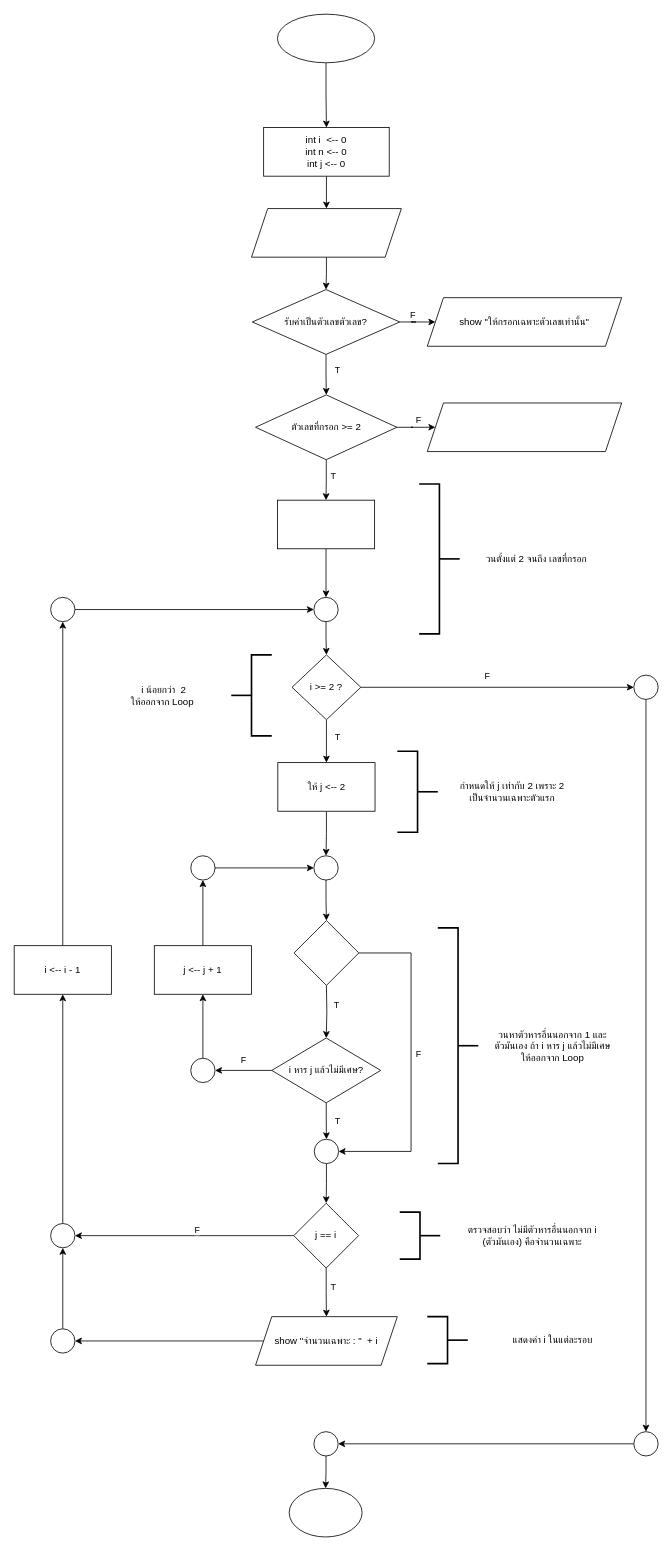
The diagram is 672 pixels wide and 1551 high, and some of its shapes have lost their labels. The box of each missing label's shape, as (x1, y1, x2, y2) in pixels:
End: (288, 1488, 362, 1537)
j < i ?: (293, 920, 359, 985)
show " ไม่มีจำนวนเฉพาะในช่วง 1 ถึง ... ": (426, 402, 622, 452)
show "Enter Number : ": (251, 208, 401, 257)
Start: (277, 13, 375, 63)
ให้ i <-- n: (277, 499, 375, 549)
